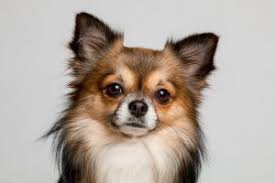chihuahua: (40, 7, 230, 174)
